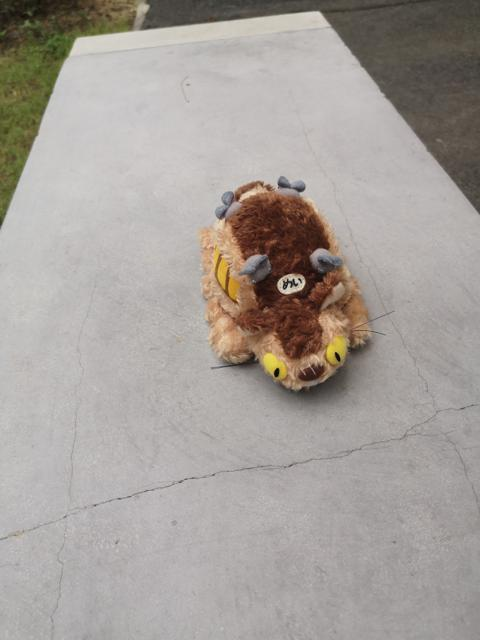nekobus: (196, 171, 393, 402)
